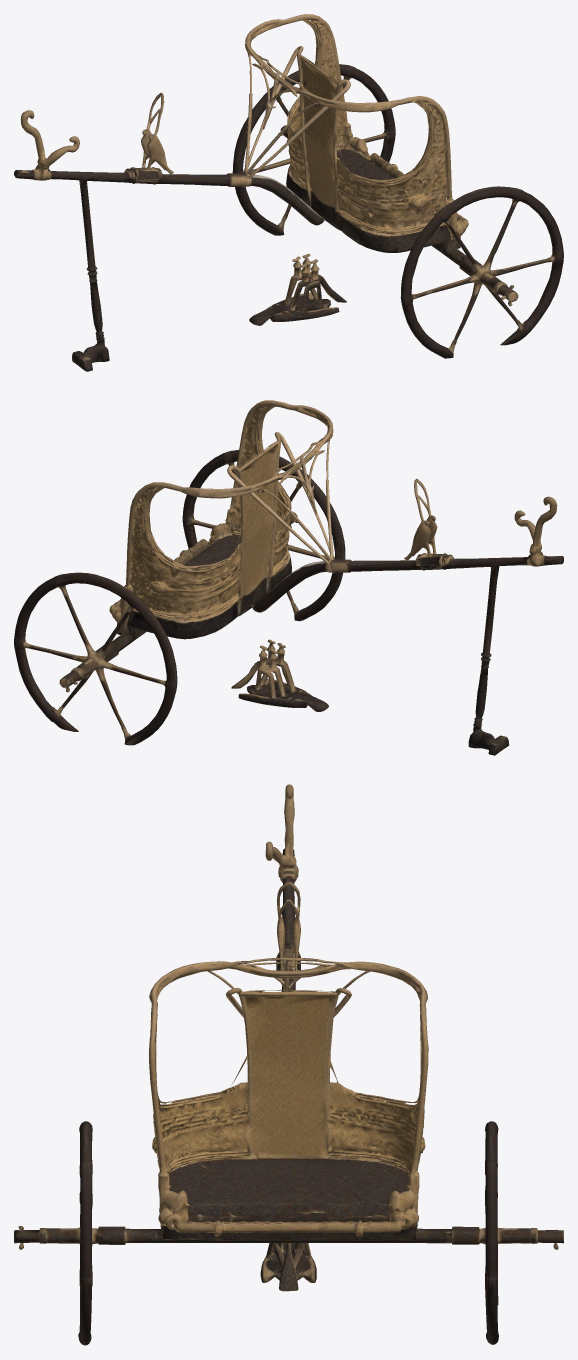
The model's file is chariot-ai.glb.
3 renders of one model, top to bottom at view 1: azimuth 30°, elevation 25°; view 2: azimuth 150°, elevation 25°; view 3: azimuth 270°, elevation 25°, orthographic. The views are drawn at different scales.
Size of the model in its own units: 1.9 by 1.04 by 1.62.
1 material, 1 textured.
